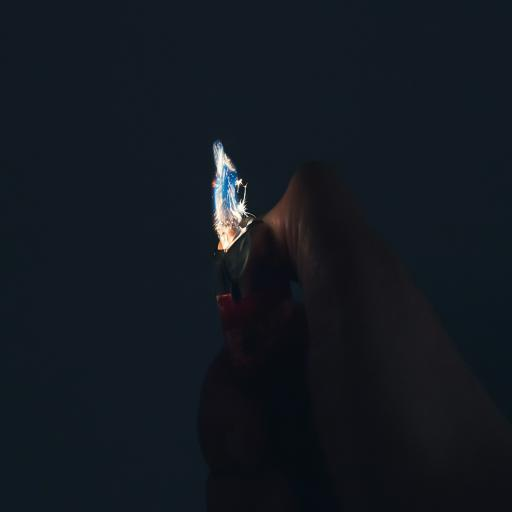lighter: (182, 112, 315, 393)
